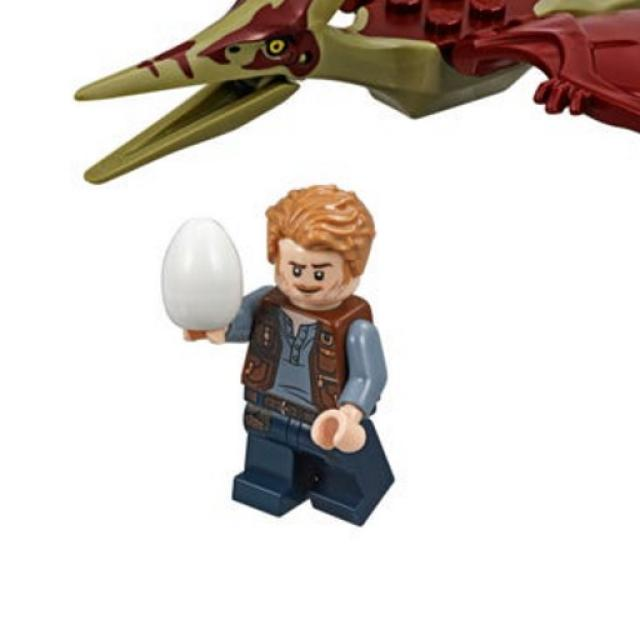Lego-Minifigures: (130, 152, 474, 558)
